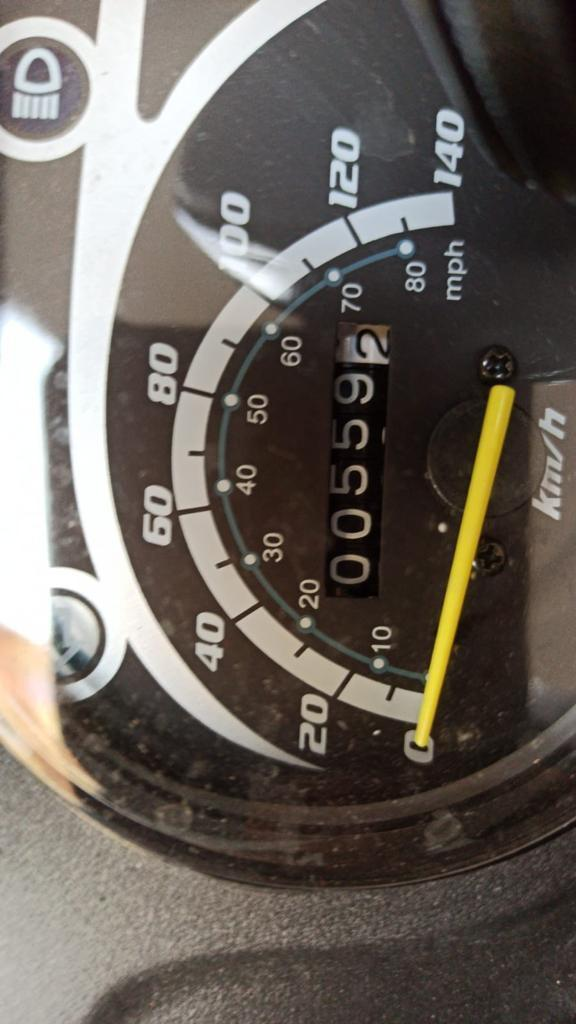0: (325, 503, 374, 542), (325, 550, 374, 586)
2: (352, 324, 395, 360)
5: (326, 414, 370, 453), (325, 460, 369, 499)
9: (330, 368, 376, 408)
odometer: (313, 315, 399, 607)
